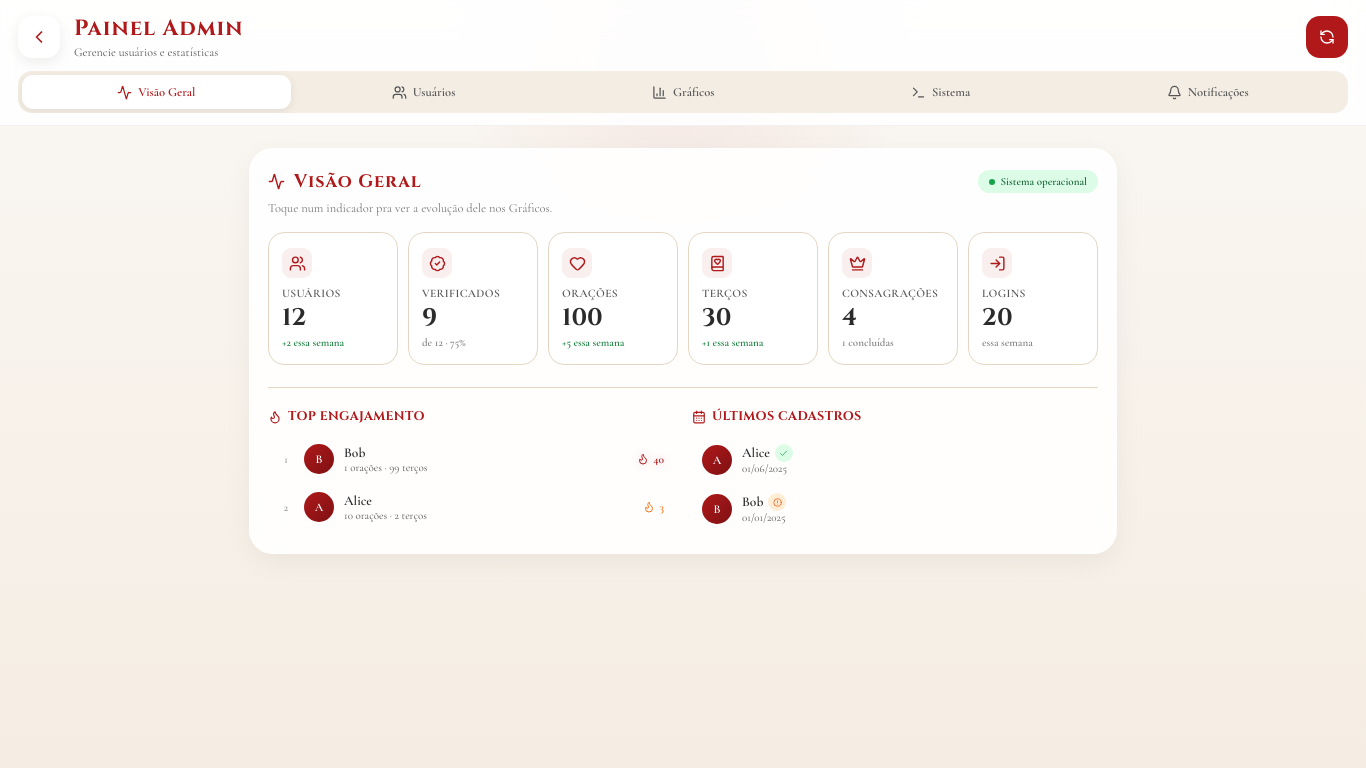
AdminPanel › lists users on the Usuários tab with a result count
Expected: the heading "Visão Geral" is shown, [294,169,422,194]
Step 1. Click the button "Usuários" → (424, 92), box [296,75,551,109]
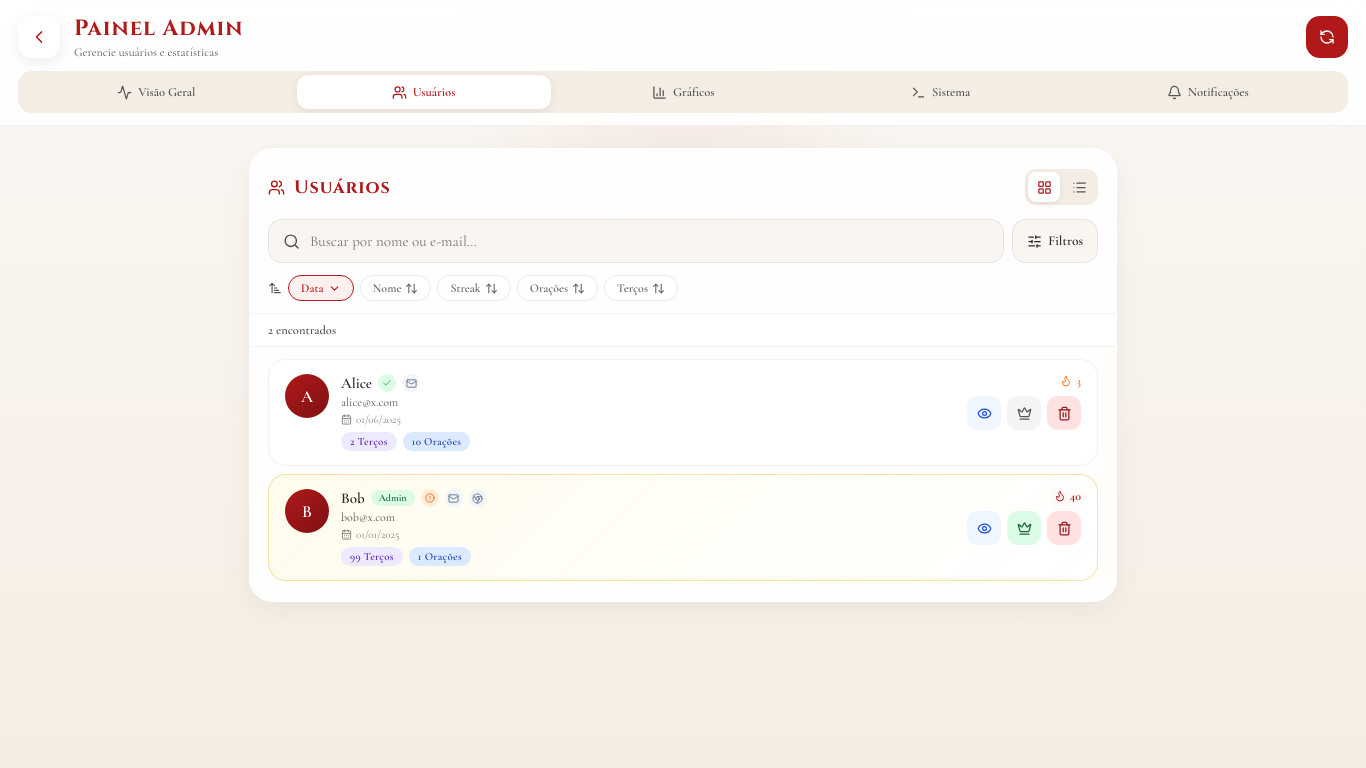
Expected: the text "Alice" is shown, [341,374,372,392]
Result: the text "2 encontrados" is shown at [268,322,336,338]
